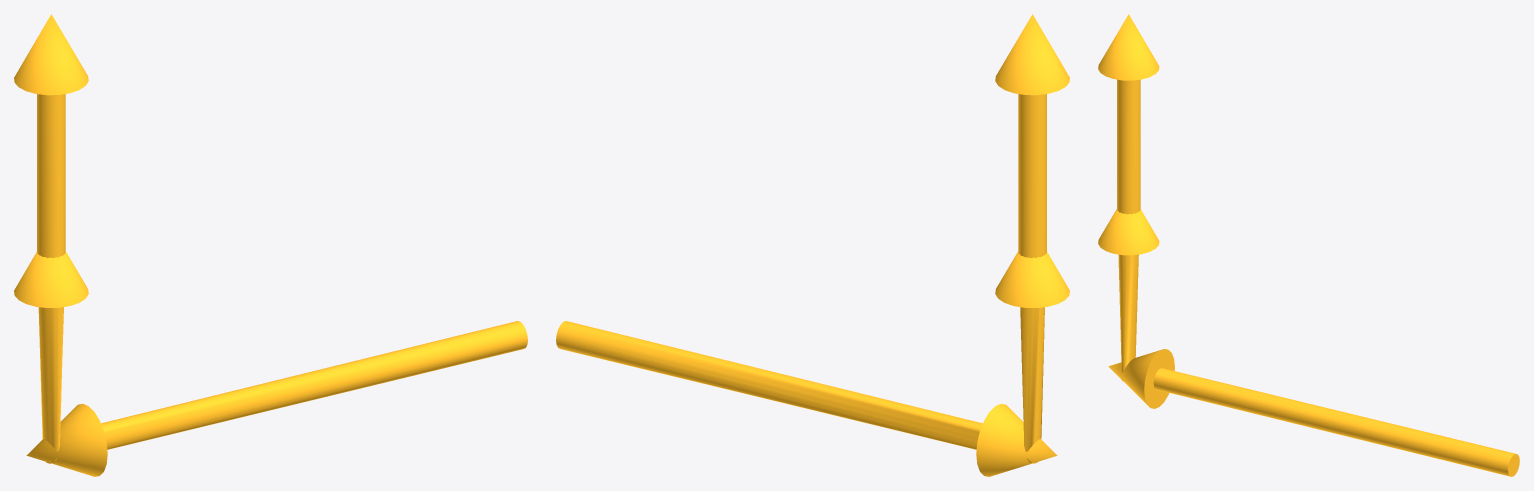
File: hydraulic_accumulator_flow.glb
3 views of the same model, side by side, from view 1: azimuth 30°, elevation 25°; view 2: azimuth 150°, elevation 25°; view 3: azimuth 330°, elevation 25° (orthographic). The views are drawn at different scales.
Parts seen in each view (by area): view 1: oil_in_out; view 2: oil_in_out; view 3: oil_in_out.
Boxes of the visible parts, x1,y1,x2,y2 form: oil_in_out: (14,14,527,476); oil_in_out: (556,14,1069,476); oil_in_out: (1098,14,1519,476).
Bounding box in the file's own units: 0.3208 × 0.2868 × 0.0416.
